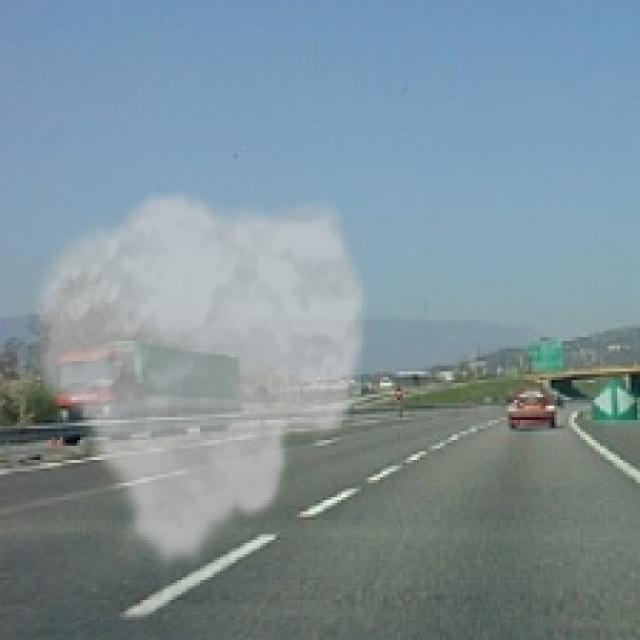Smoke: (22, 186, 374, 572)
